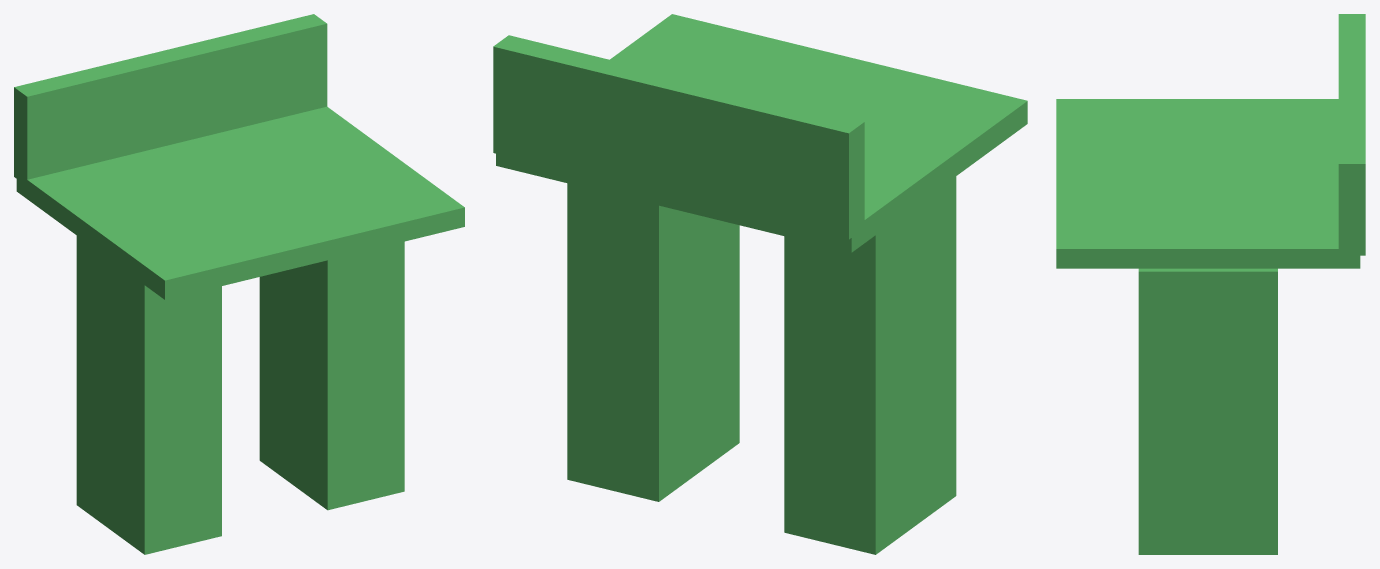
Rendered from archer_platform_high_4m_collision.glb.
3 renders of one model, left to right at view 1: azimuth 30°, elevation 25°; view 2: azimuth 150°, elevation 25°; view 3: azimuth 270°, elevation 25°, orthographic. The views are drawn at different scales.
Parts seen in each view (by area): view 1: archer_platform_high_4m-col-deck, archer_platform_high_4m-col-pier--1.28, archer_platform_high_4m-col-pier-1.28, archer_platform_high_4m-col-front; view 2: archer_platform_high_4m-col-pier--1.28, archer_platform_high_4m-col-pier-1.28, archer_platform_high_4m-col-front, archer_platform_high_4m-col-deck; view 3: archer_platform_high_4m-col-deck, archer_platform_high_4m-col-pier-1.28, archer_platform_high_4m-col-front.
Boxes of the visible parts, box(x1,y1,x2,y2) form: archer_platform_high_4m-col-deck: box(16, 106, 464, 299); archer_platform_high_4m-col-pier--1.28: box(76, 236, 221, 554); archer_platform_high_4m-col-pier-1.28: box(259, 241, 404, 510); archer_platform_high_4m-col-front: box(14, 14, 327, 185); archer_platform_high_4m-col-pier--1.28: box(784, 176, 956, 554); archer_platform_high_4m-col-pier-1.28: box(567, 183, 739, 501); archer_platform_high_4m-col-front: box(493, 35, 864, 239); archer_platform_high_4m-col-deck: box(496, 14, 1027, 252); archer_platform_high_4m-col-deck: box(1056, 99, 1360, 268); archer_platform_high_4m-col-pier-1.28: box(1138, 268, 1277, 554); archer_platform_high_4m-col-front: box(1338, 14, 1365, 255).
Bounding box in the file's own units: 4.2 × 5.24 × 3.66.
